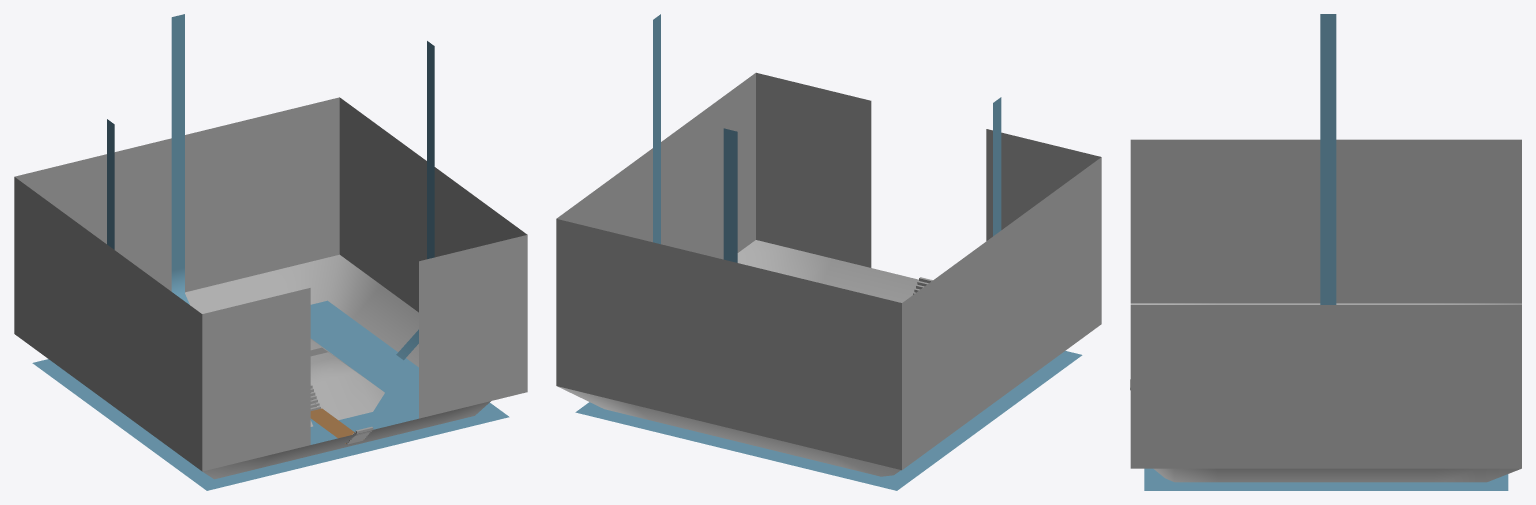
File: bossRoom_graybox.fbx
3 renders of one model, left to right at view 1: azimuth 30°, elevation 25°; view 2: azimuth 150°, elevation 25°; view 3: azimuth 270°, elevation 25°, orthographic. The views are drawn at different scales.
Visible parts, largest first — view 1: room, water, pPlane2, pPlane3, pPlane4, bridge; view 2: room, water, pPlane2, pPlane3, pPlane4; view 3: room, water, pPlane4, pPlane3.
Boxes of the visible parts, left/top/right/bottom form: room: left=14, top=97, right=527, bottom=479; water: left=32, top=300, right=509, bottom=490; pPlane2: left=171, top=14, right=189, bottom=304; pPlane3: left=396, top=41, right=434, bottom=360; pPlane4: left=107, top=119, right=114, bottom=249; bridge: left=310, top=408, right=354, bottom=443; room: left=556, top=72, right=1101, bottom=476; water: left=575, top=351, right=1082, bottom=490; pPlane2: left=723, top=128, right=737, bottom=262; pPlane3: left=653, top=14, right=660, bottom=244; pPlane4: left=993, top=97, right=1001, bottom=236; room: left=1130, top=139, right=1521, bottom=482; water: left=1144, top=468, right=1508, bottom=490; pPlane4: left=1320, top=14, right=1336, bottom=176; pPlane3: left=1320, top=176, right=1336, bottom=304.
Bounding box in the file's own units: 5000 × 4607 × 5008.
